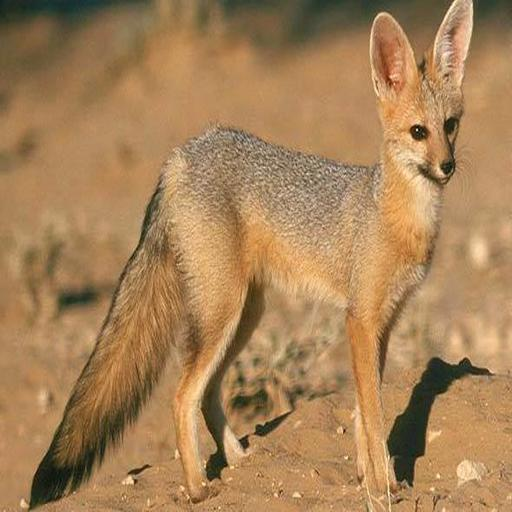Fox: (29, 0, 482, 508)
